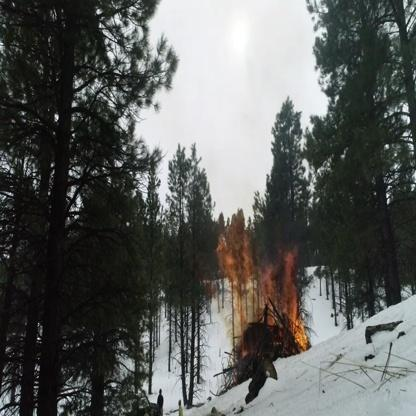Fire: (214, 207, 311, 359)
